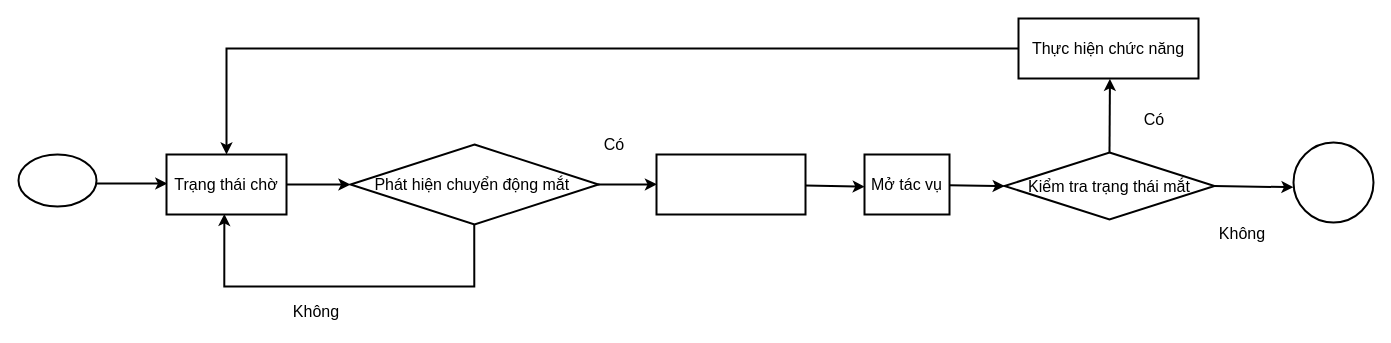
The diagram is 1391 pixels wide and 343 high, and some of its shapes have lost their labels. Here are the shapes that lost their labels. From the top down, the centre of each, then its label:
At (57,180): "Bắt đầu".
At (730,184): "Ghi nhận vị trí nhìn đầu tiên( X, Y)".
At (1333,182): "Kết thúc".
